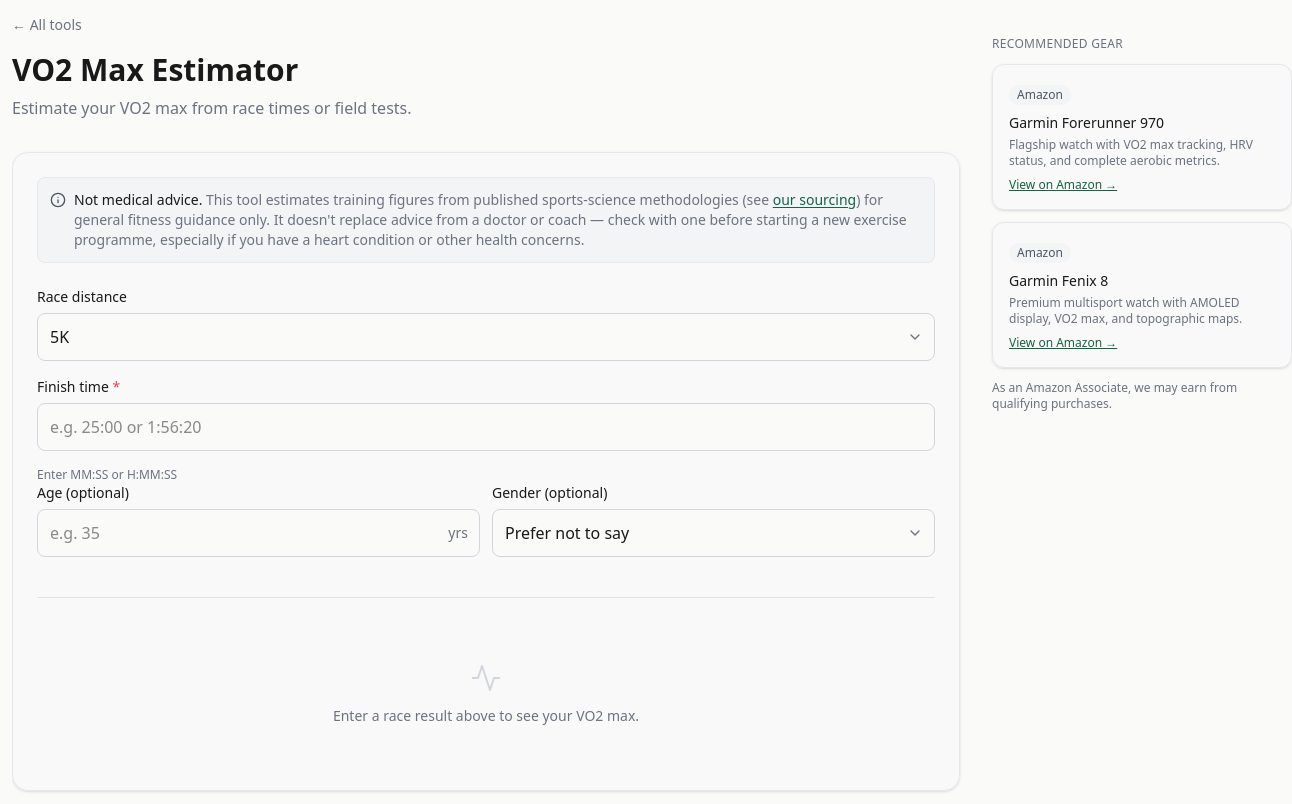
it: Vo2max page › shows out-of-range message for implausible time (AC8)
The image size is (1292, 804).
A very slow 5K (90 minutes) produces VDOT below 20
In the field labelled "Finish time *": (486, 427) [37, 403, 935, 451], type "90:00"
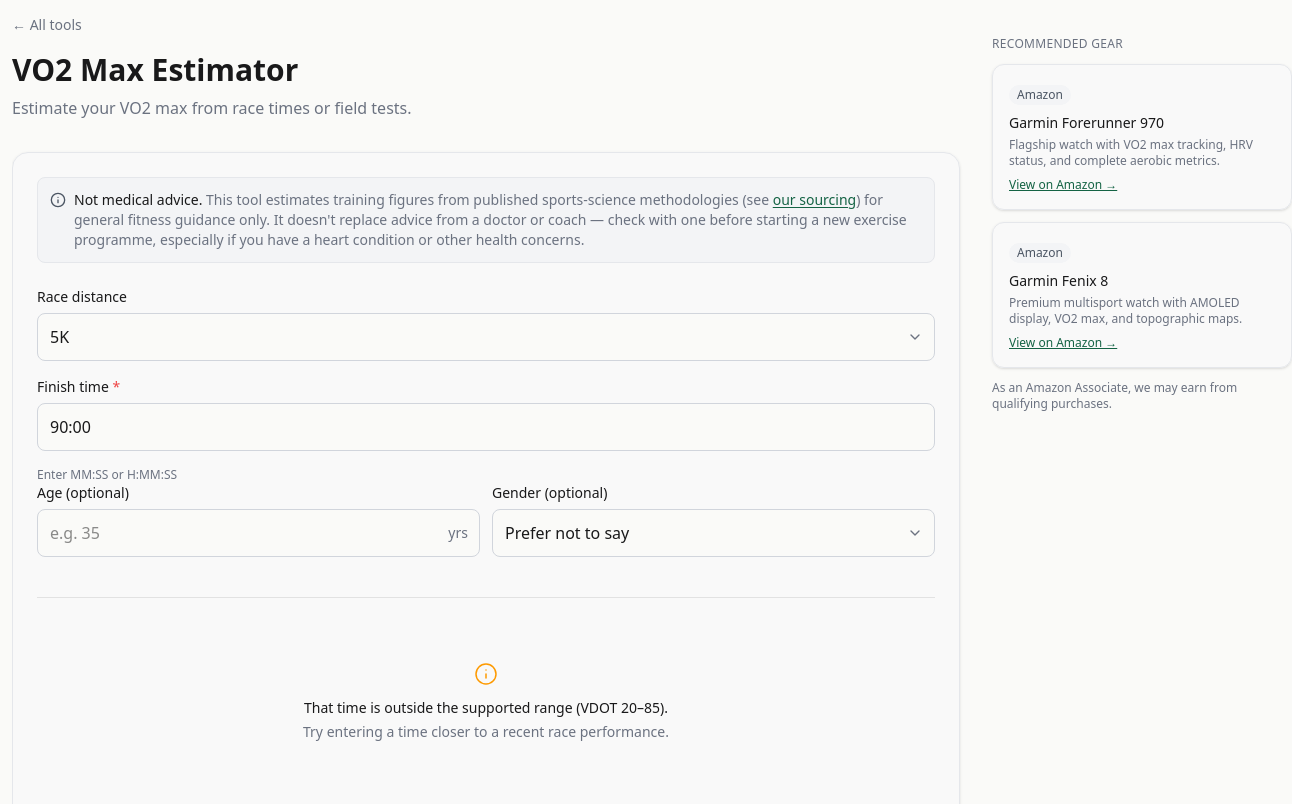
Now the text "That time is outside the supported range (VDOT 20–85)." is shown, box [304, 698, 668, 717]
